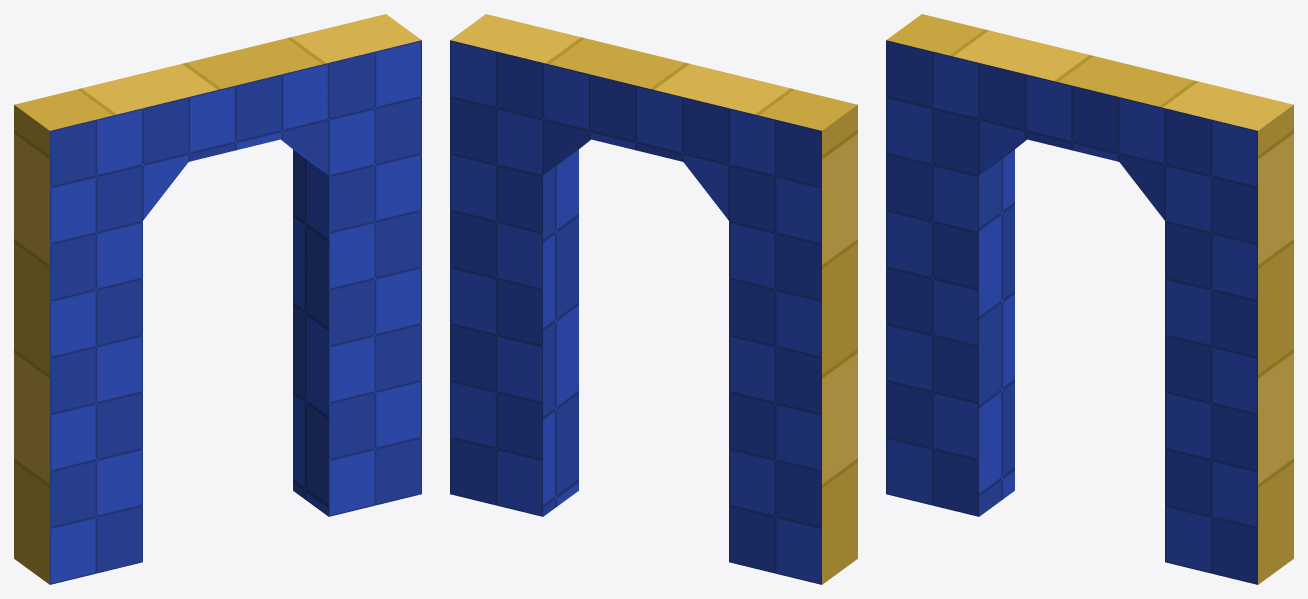
File: DoorFrame.fbx
3 views of the same model, side by side, from view 1: azimuth 30°, elevation 25°; view 2: azimuth 150°, elevation 25°; view 3: azimuth 330°, elevation 25° (orthographic).
Visible parts, largest first — view 1: DoorFrame; view 2: DoorFrame; view 3: DoorFrame.
Part boxes in pixels (x1,y1,x2,y2): DoorFrame: [14, 14, 421, 584]; DoorFrame: [450, 14, 857, 584]; DoorFrame: [886, 14, 1293, 584].
Bounding box in the file's own units: 300 × 50 × 350.
